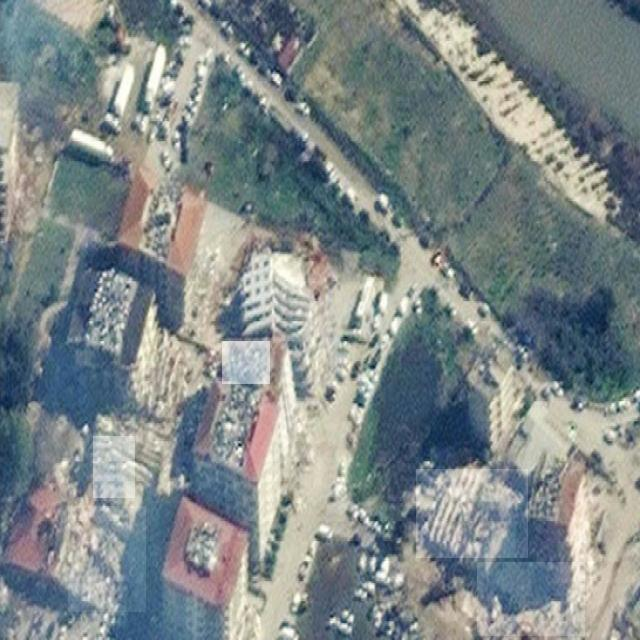Rubble: (416, 469, 528, 558), (67, 507, 146, 612), (477, 562, 585, 636), (276, 278, 346, 384), (145, 339, 211, 423), (93, 436, 135, 498), (222, 341, 270, 384)
